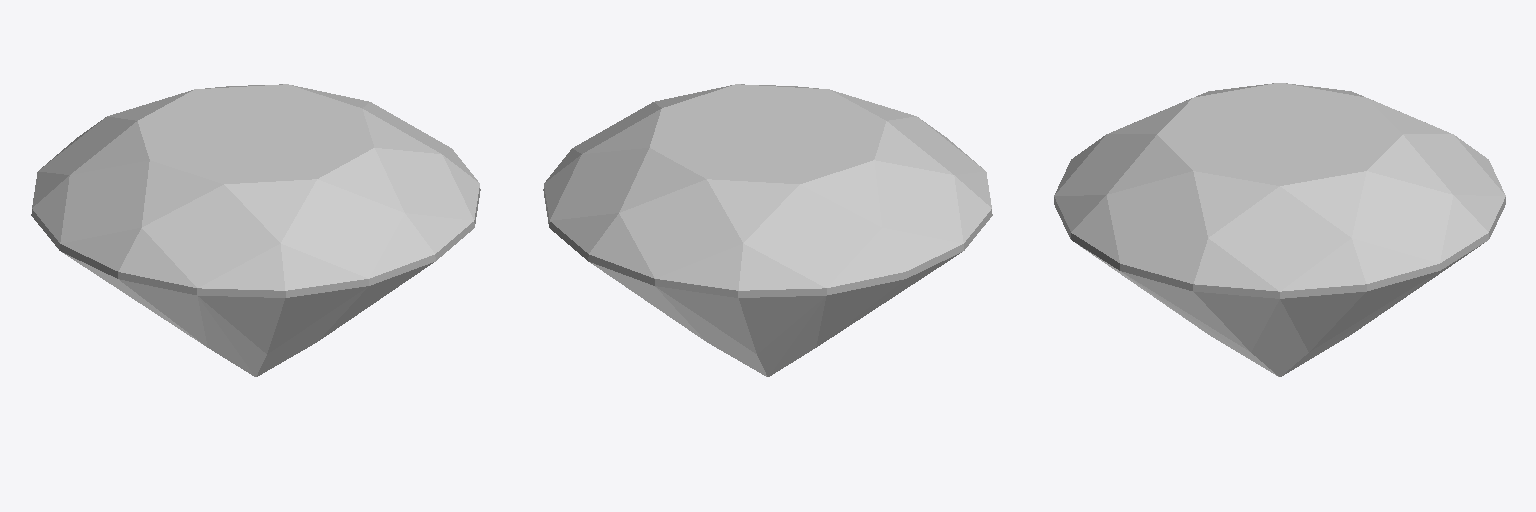
Rendered from dia_original_center.obj.
3 renders of one model, left to right at view 1: azimuth 30°, elevation 25°; view 2: azimuth 150°, elevation 25°; view 3: azimuth 270°, elevation 25°, orthographic.
Visible parts, largest first — view 1: pCylinder1; view 2: pCylinder1; view 3: pCylinder1.
Part boxes in pixels (x1,y1,x2,y2): pCylinder1: (31, 84, 480, 376); pCylinder1: (543, 84, 992, 376); pCylinder1: (1054, 83, 1505, 376).
Bounding box in the file's own units: 97.86 × 58 × 97.86.